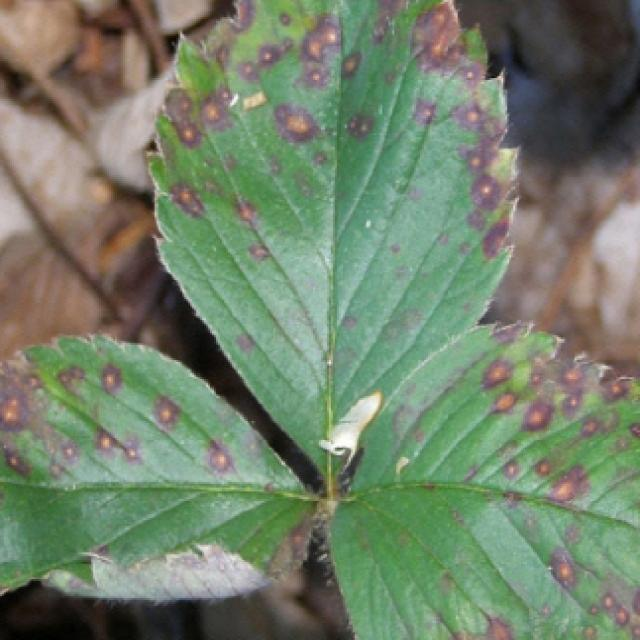Leaf Spot: (144, 0, 523, 486), (328, 320, 640, 640), (0, 332, 316, 604)
